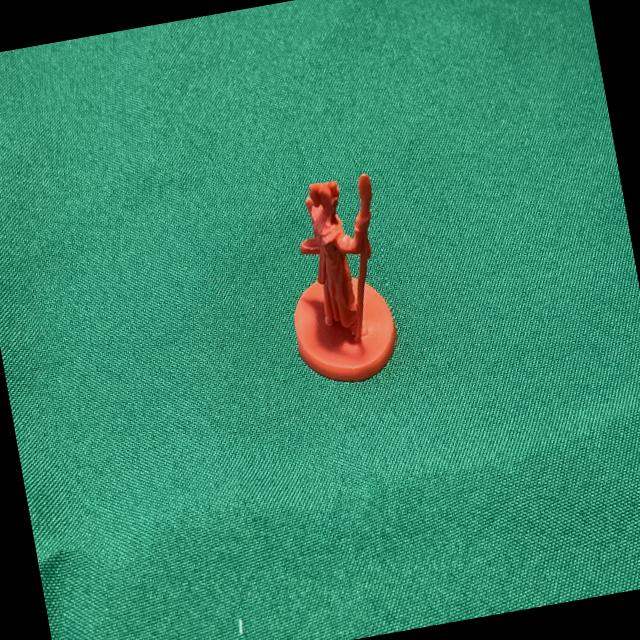amon_follower: (294, 175, 396, 382)
